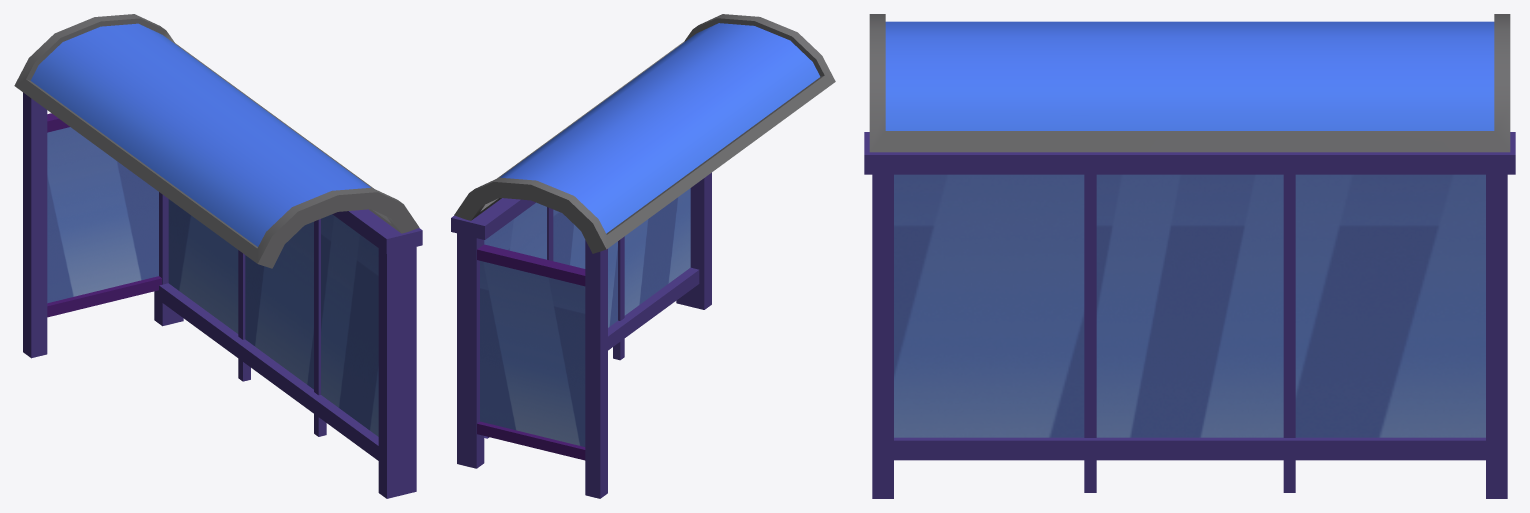
Rendered from BusStop_C.fbx.
3 views of the same model, side by side, from view 1: azimuth 30°, elevation 25°; view 2: azimuth 150°, elevation 25°; view 3: azimuth 270°, elevation 25° (orthographic). The views are drawn at different scales.
Parts seen in each view (by area): view 1: BusStop_C; view 2: BusStop_C; view 3: BusStop_C.
Part boxes in pixels (x1,y1,x2,y2): BusStop_C: (14, 14, 422, 498); BusStop_C: (451, 14, 835, 498); BusStop_C: (864, 14, 1515, 498).
Size of the model in its own units: 153 by 284 by 403.
